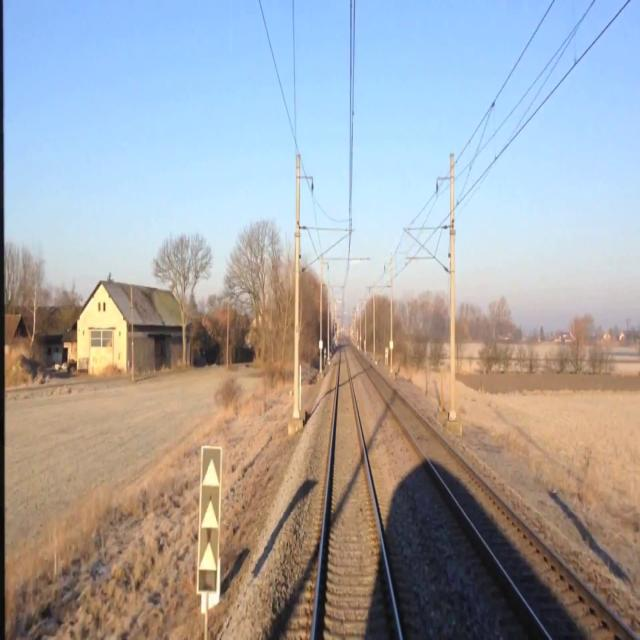rail-track: (359, 356, 633, 639), (316, 344, 398, 639)
